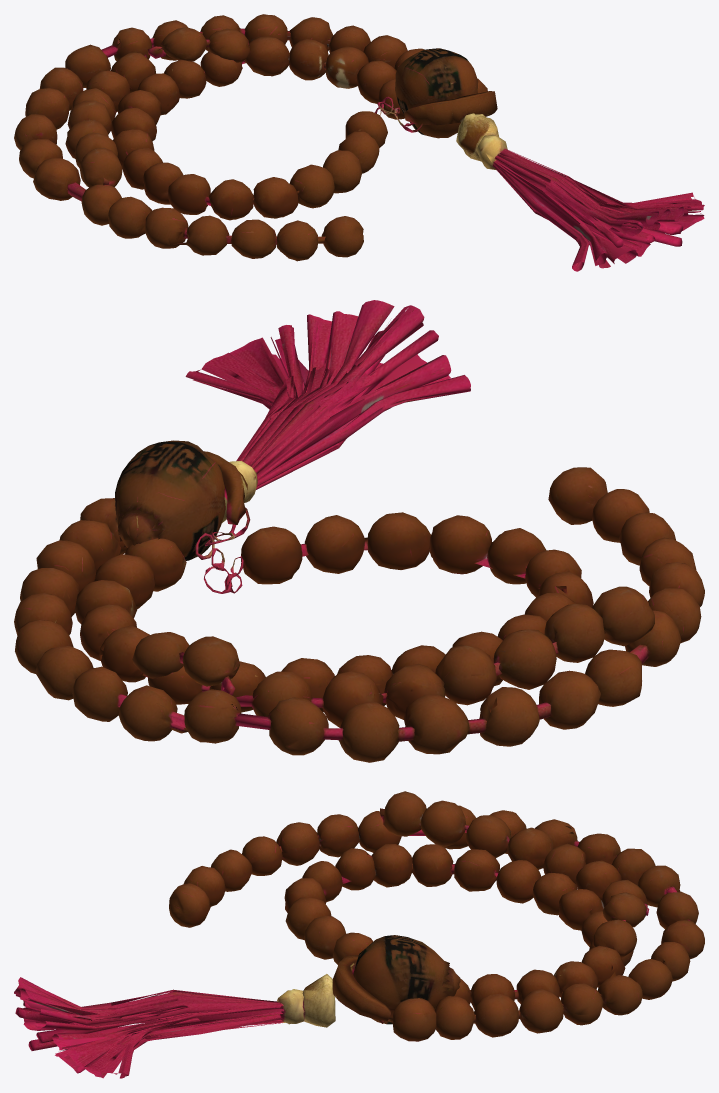
File: trang-hat-bo-de-3d.glb
3 renders of one model, top to bottom at view 1: azimuth 30°, elevation 25°; view 2: azimuth 150°, elevation 25°; view 3: azimuth 270°, elevation 25°, orthographic. The views are drawn at different scales.
Bounding box in the file's own units: 0.7944 × 0.127 × 0.9453.
1 material, 1 textured.
